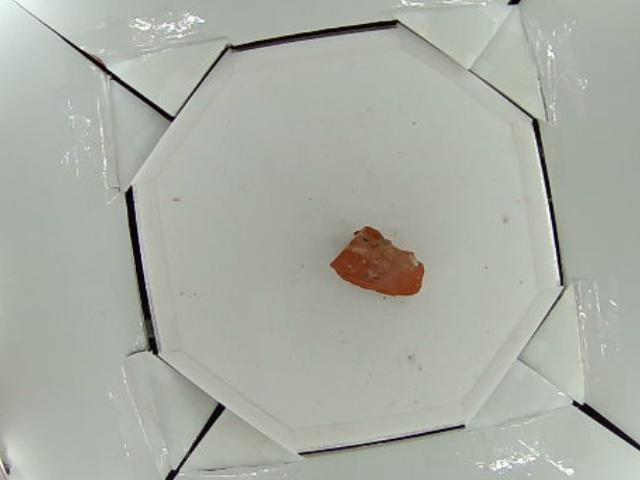Brisk: (328, 228, 424, 299)
